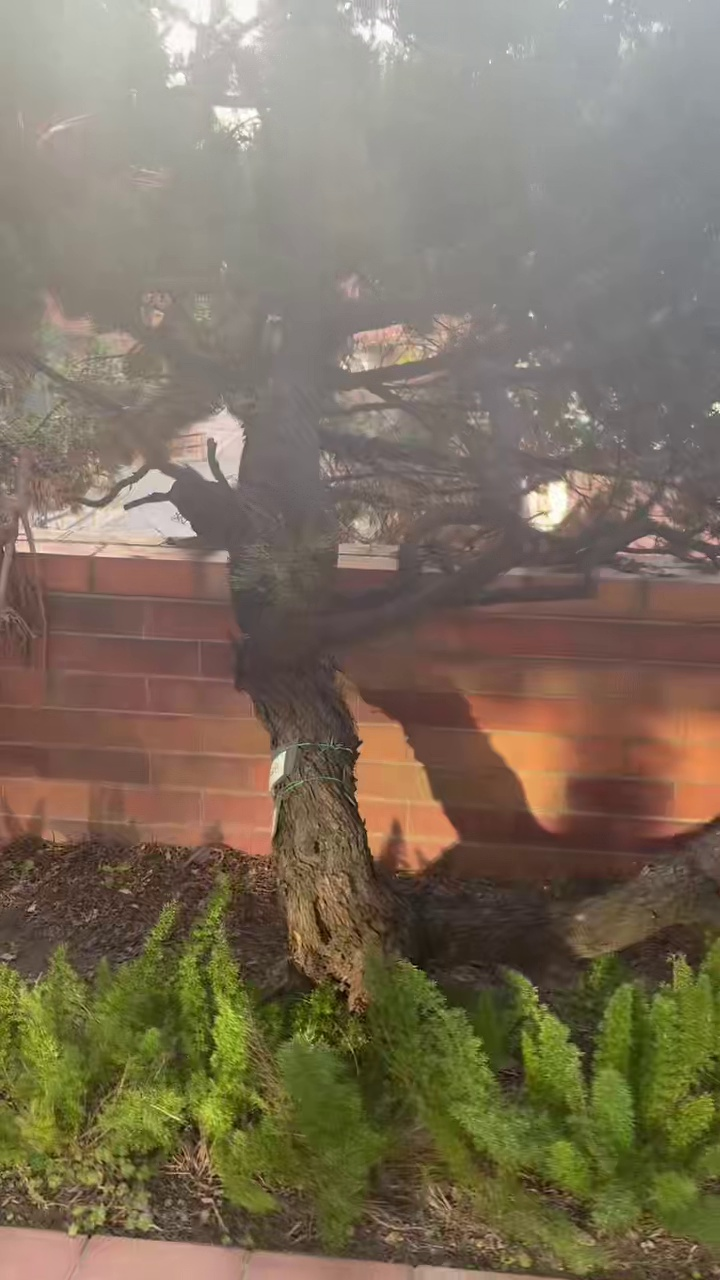Juniperus chinensis: (0, 0, 719, 1002)
